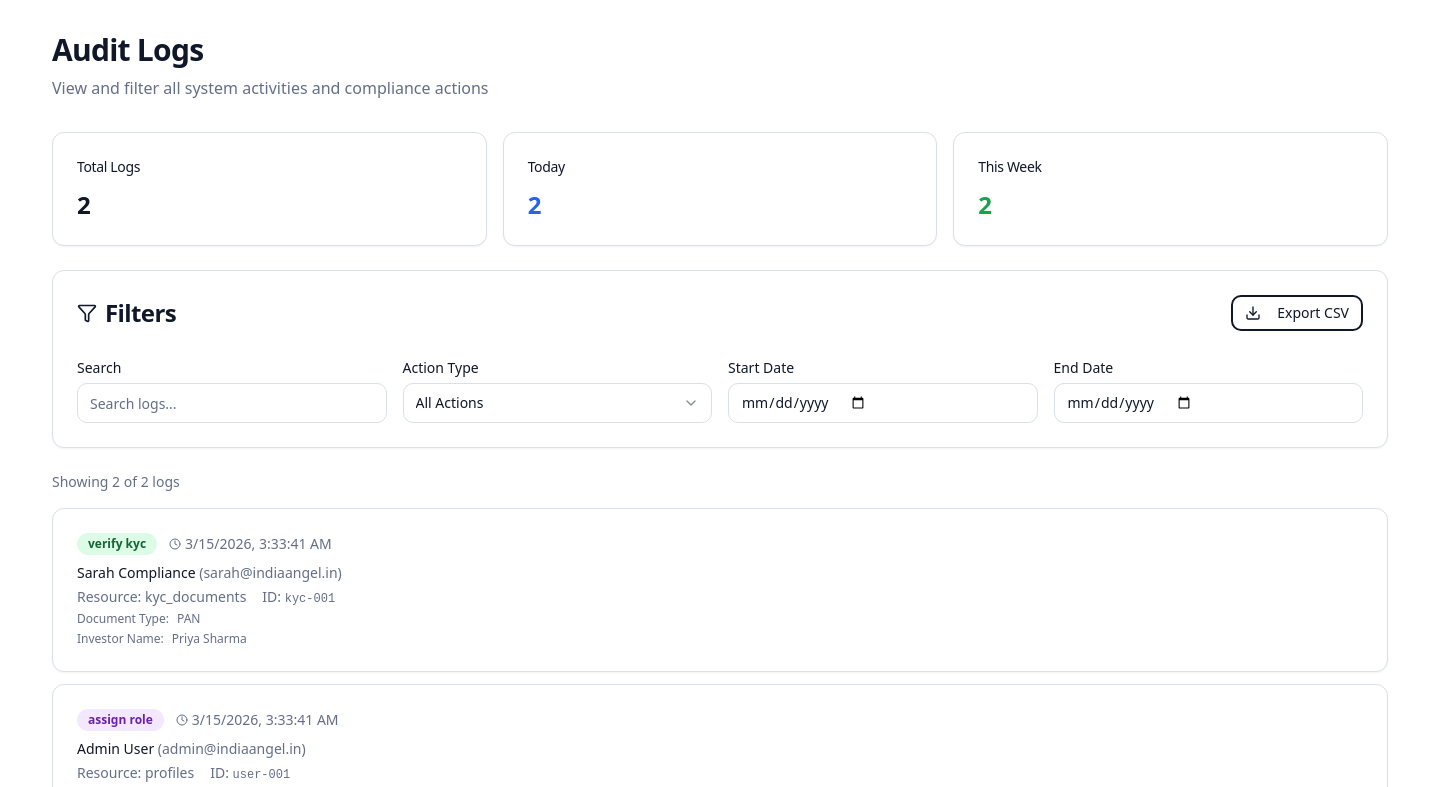
US-ADMIN-006: View Audit Logs › Filtering › should filter by action type
Expected: the text "Sarah Compliance" is shown, x1=77 y1=563 x2=196 y2=582
Expected: the text "Admin User" is shown, x1=77 y1=739 x2=154 y2=758
// Find action filter select
What coordinates should you click on to do the following:
click the dropdown named "action type"
I would click on:
 (449, 402)
Its box is x1=402 y1=383 x2=712 y2=423.
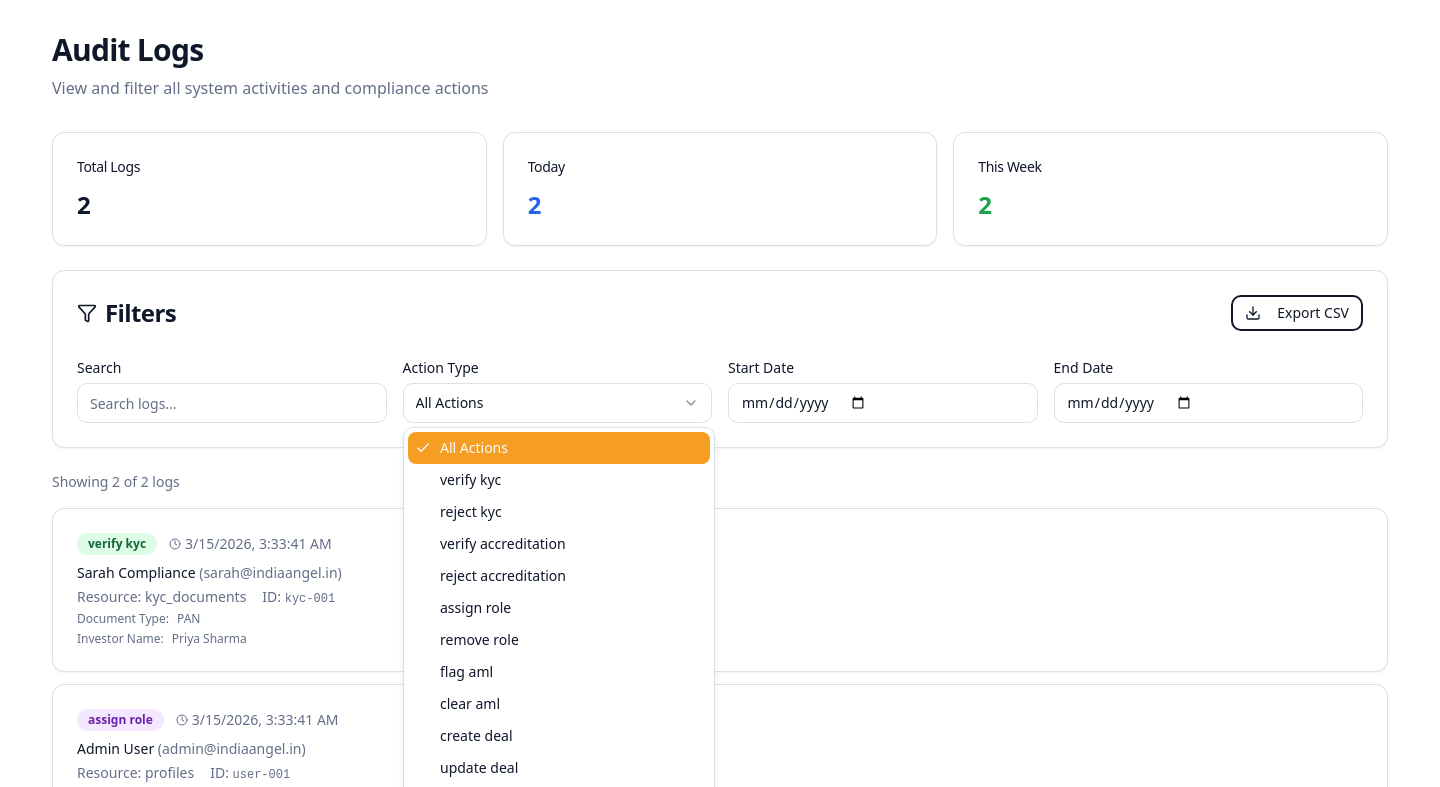
// Select verify kyc option (note: underscores replaced with spaces)
What coordinates should you click on to do the following:
click the option "verify kyc"
I would click on:
 (471, 480)
Its box is x1=440 y1=470 x2=501 y2=489.
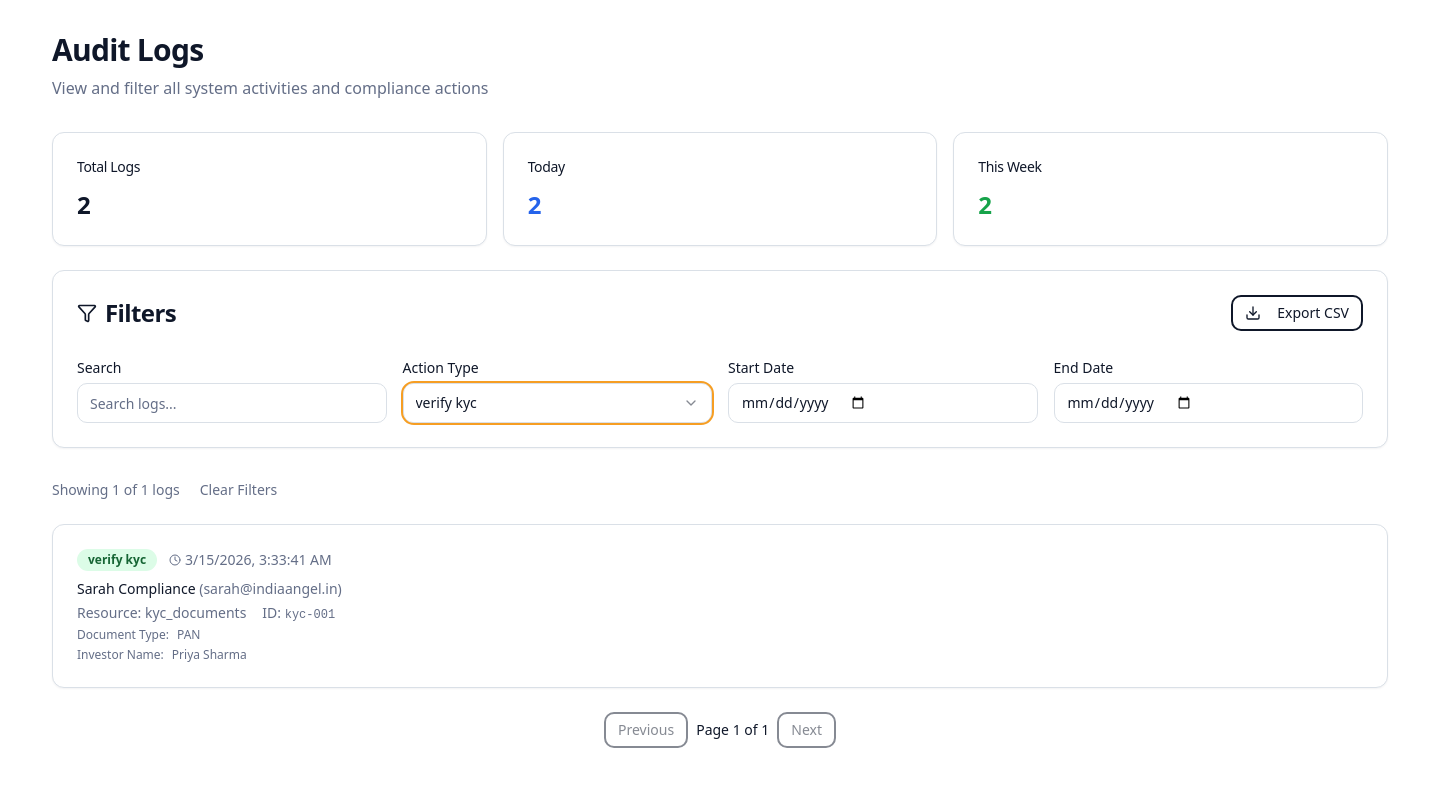
Expected: the text "Sarah Compliance" is shown, x1=77 y1=579 x2=196 y2=598
Expected: the text "Admin User" is gone
